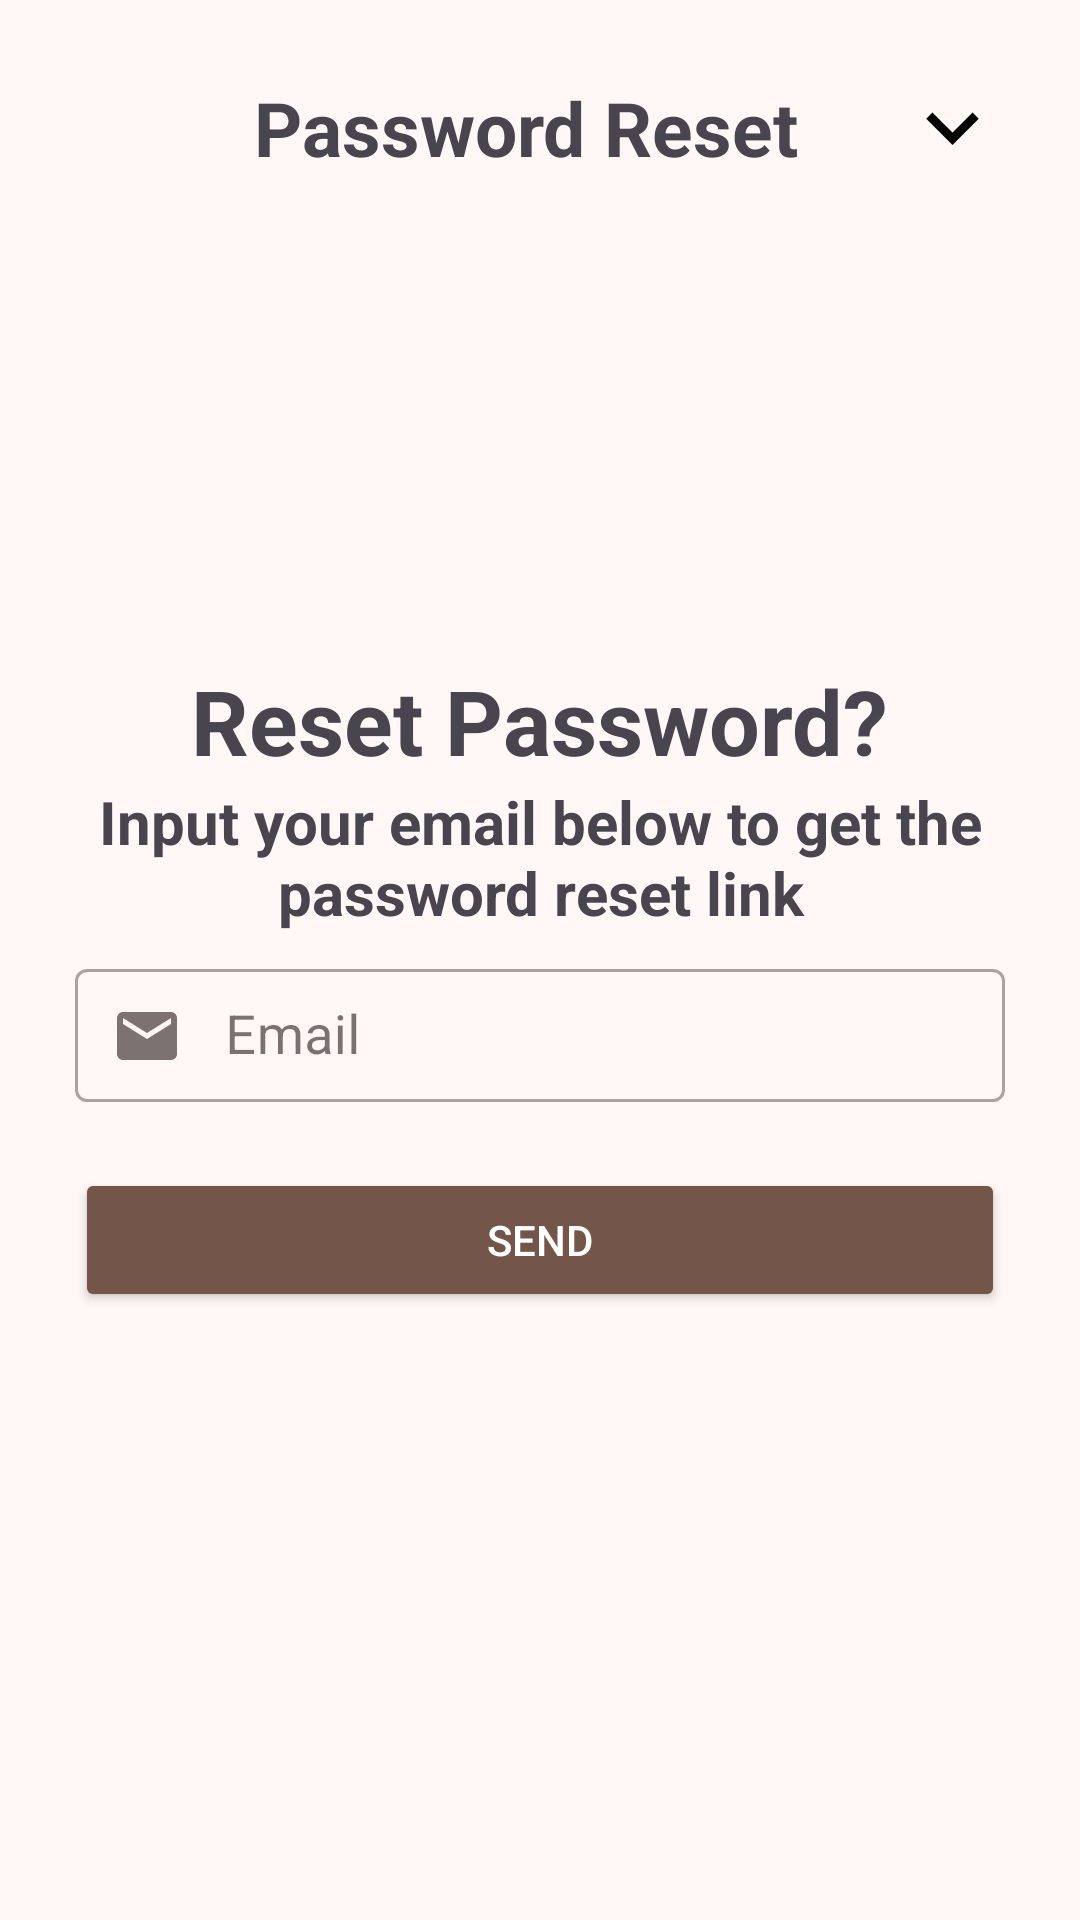

Where icons sit on this 1080 × 1920 app screen, as (x1, y1, x2, y2):
down: (926, 112, 979, 145)
